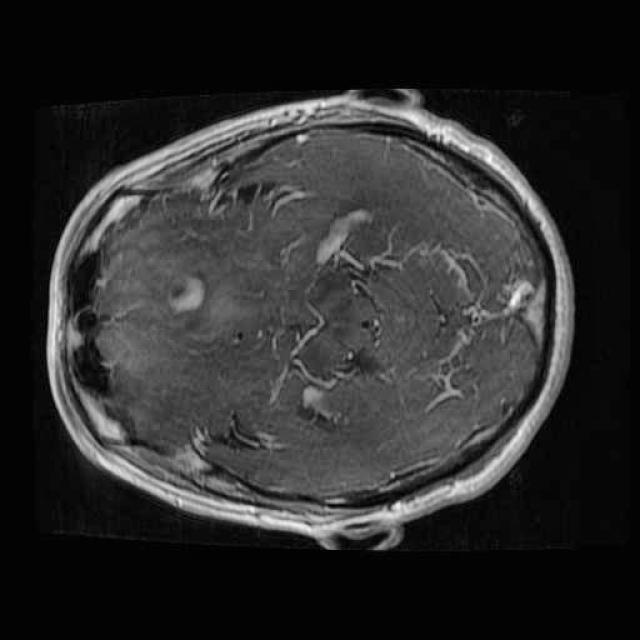Non-Tumor: (154, 232, 289, 354)
